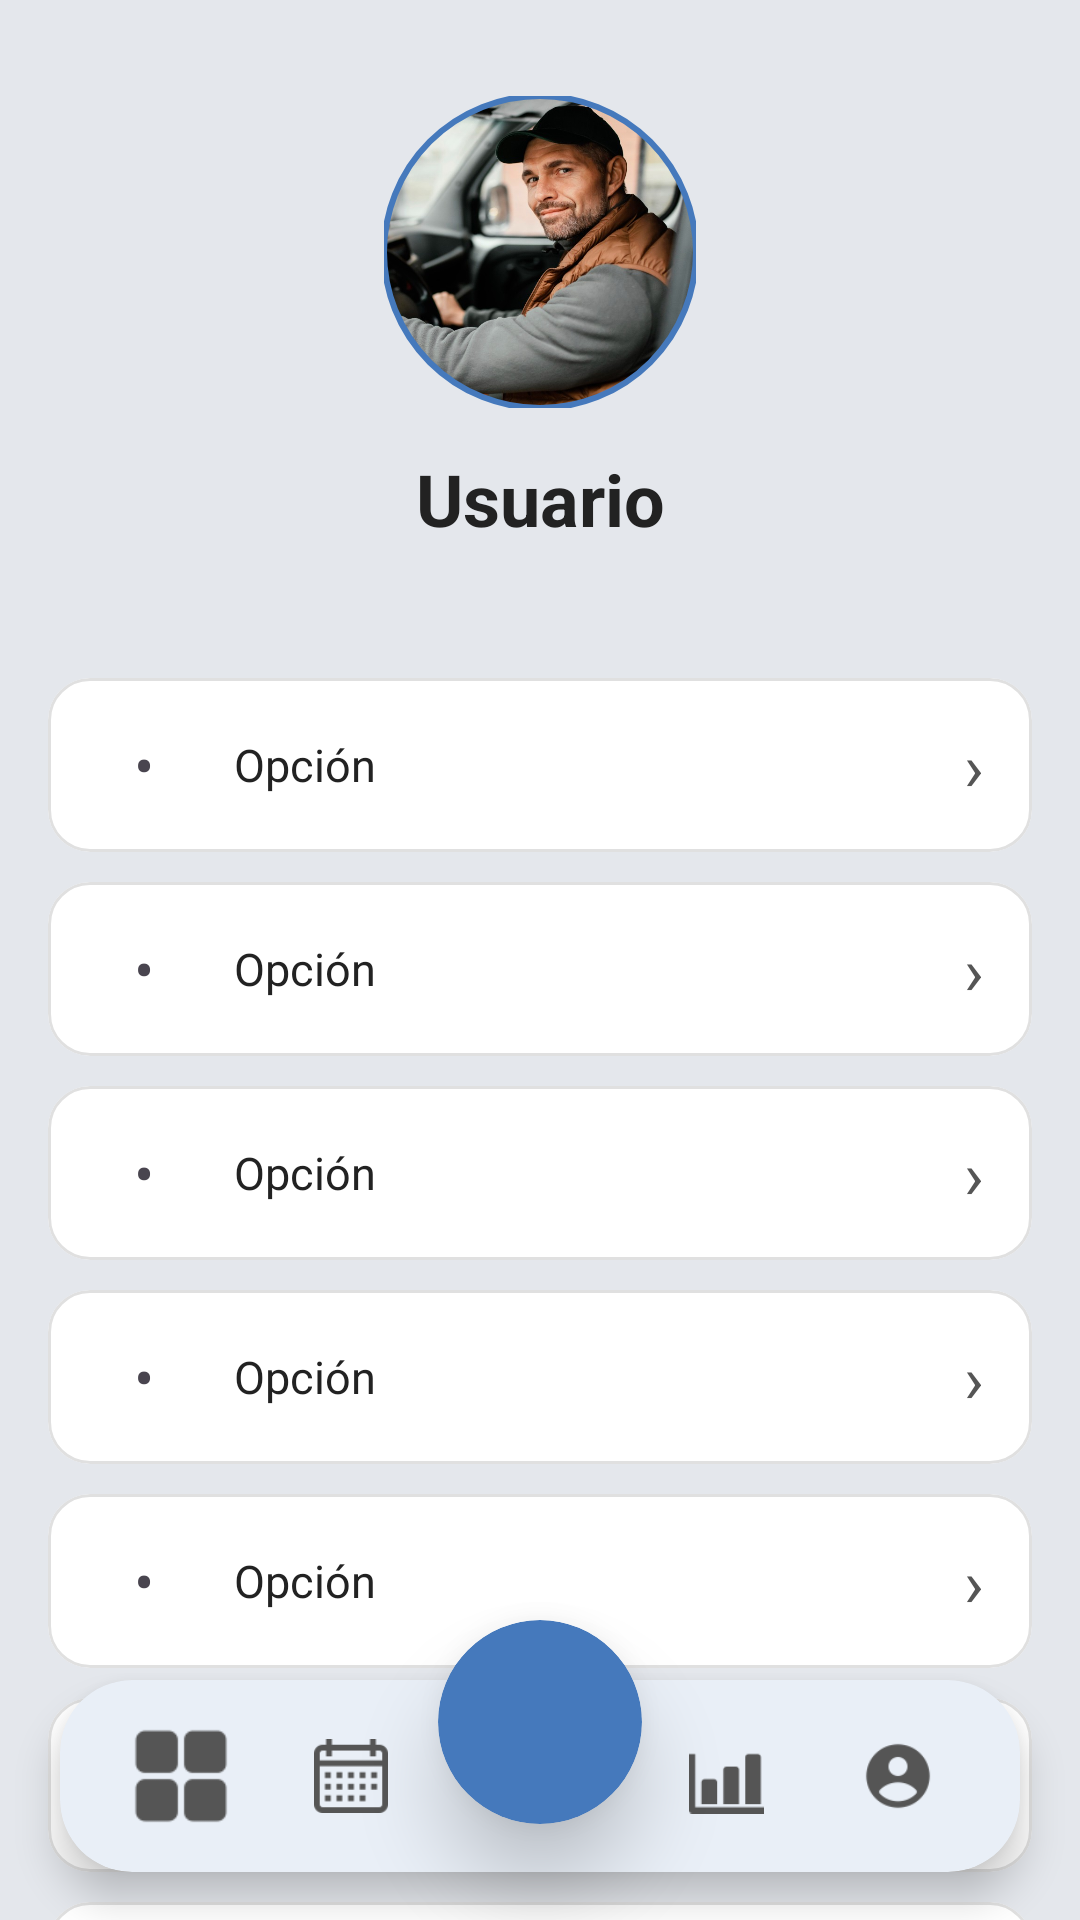

Where to tap for icons on this 1080 × 1920 app screen, as (x,y):
Calendario: (351,1776)
Estadísticas: (726,1783)
Inicio: (181,1776)
Perfil: (898,1776)
